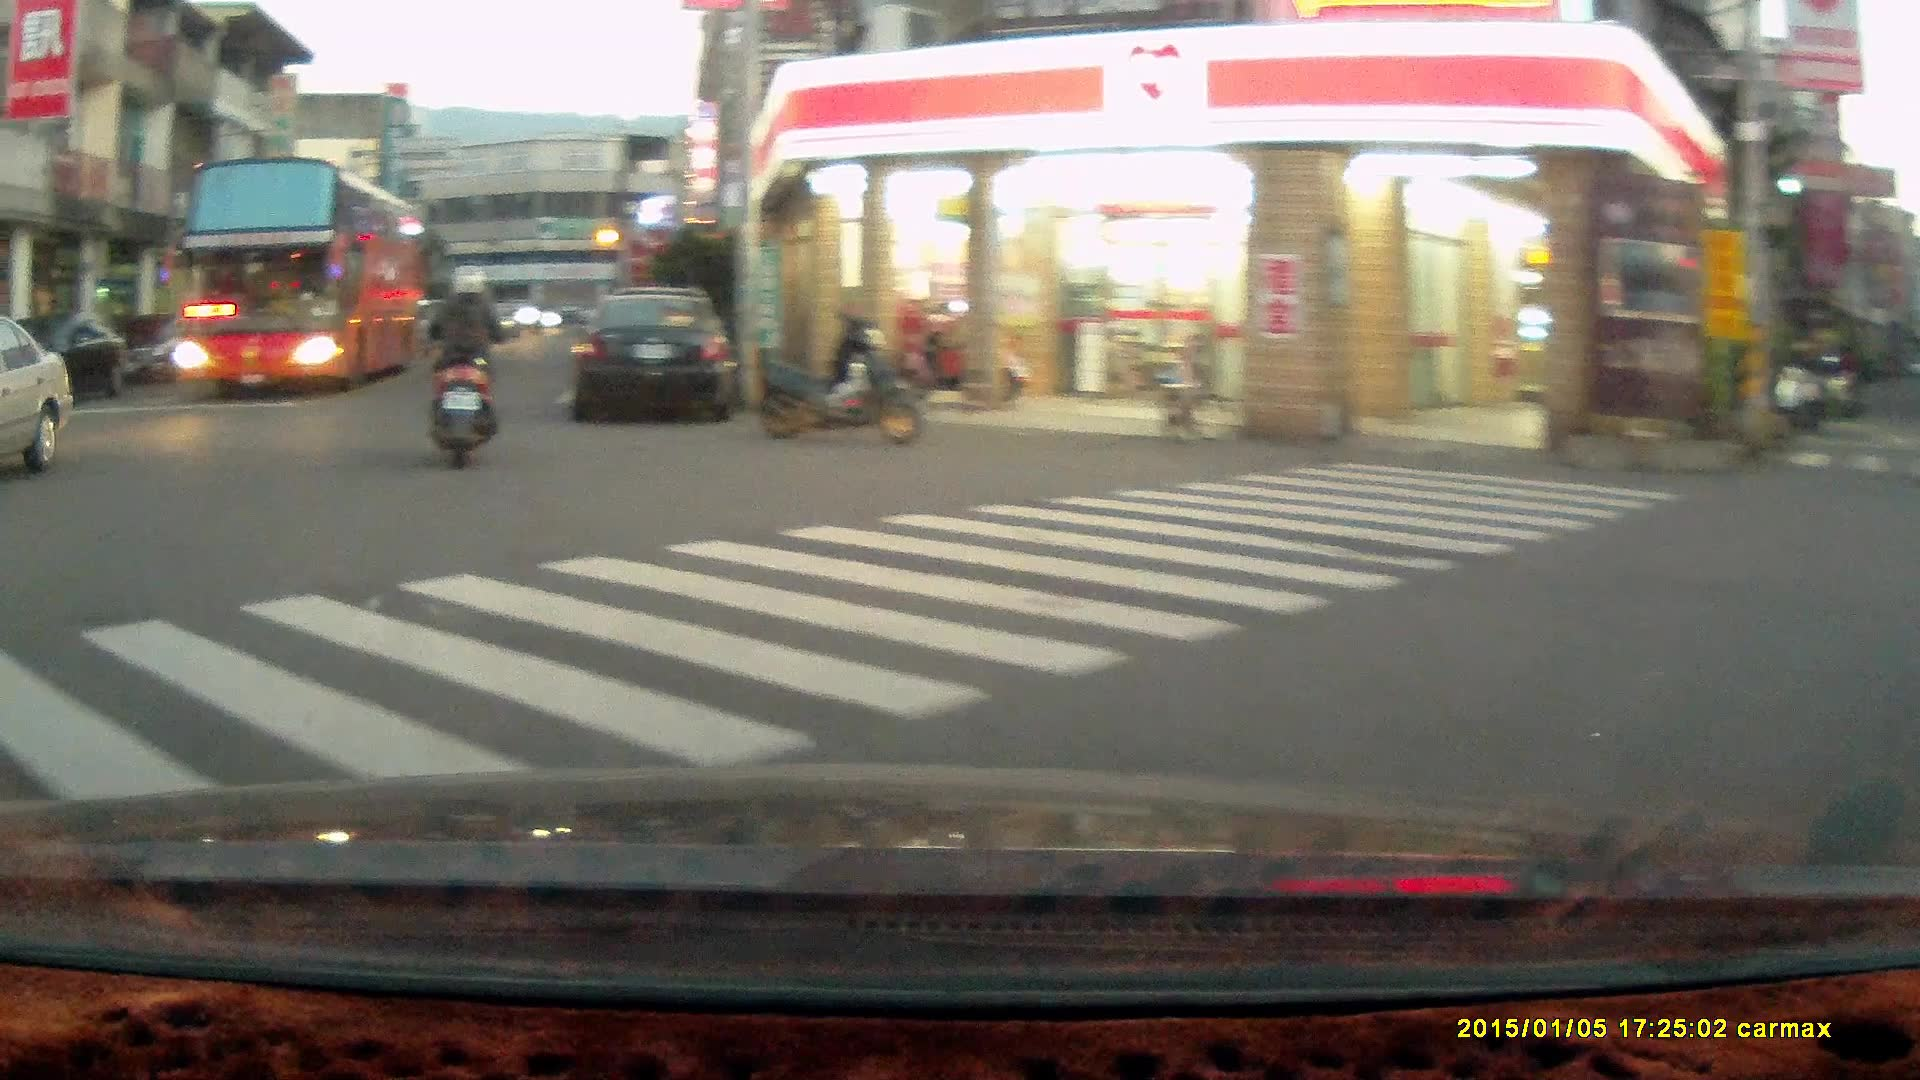rider: (418, 261, 511, 469)
vehicle: (176, 154, 440, 398), (569, 289, 744, 424), (6, 313, 135, 408)
